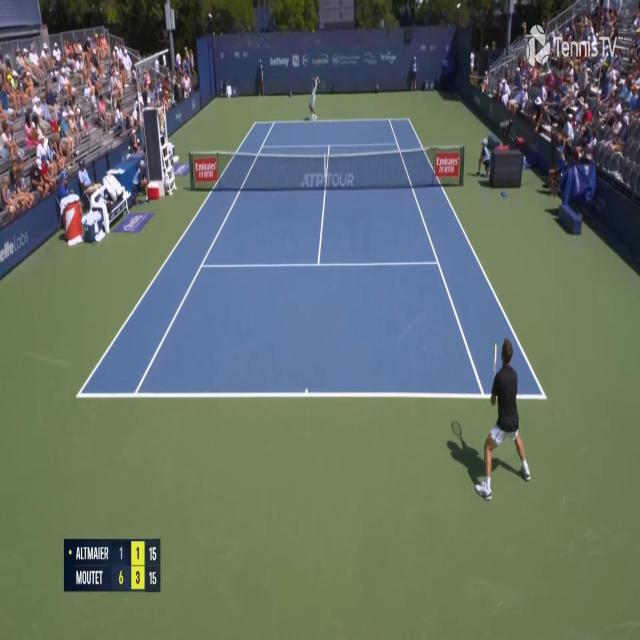tennis-player: (470, 329, 533, 502), (306, 71, 322, 121)
